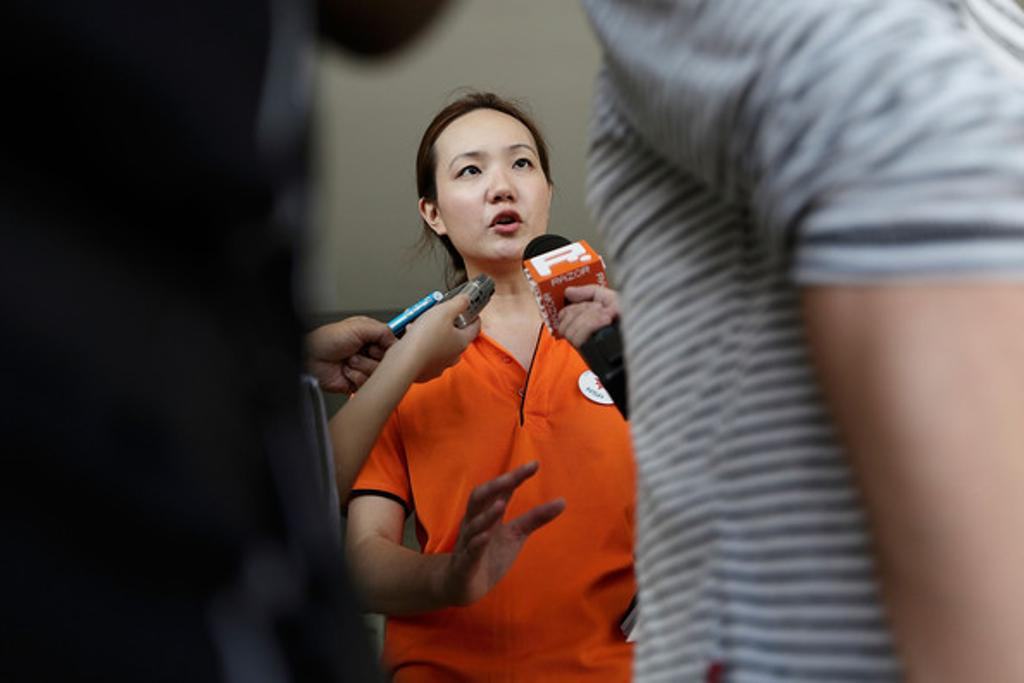face: (438, 118, 550, 260)
